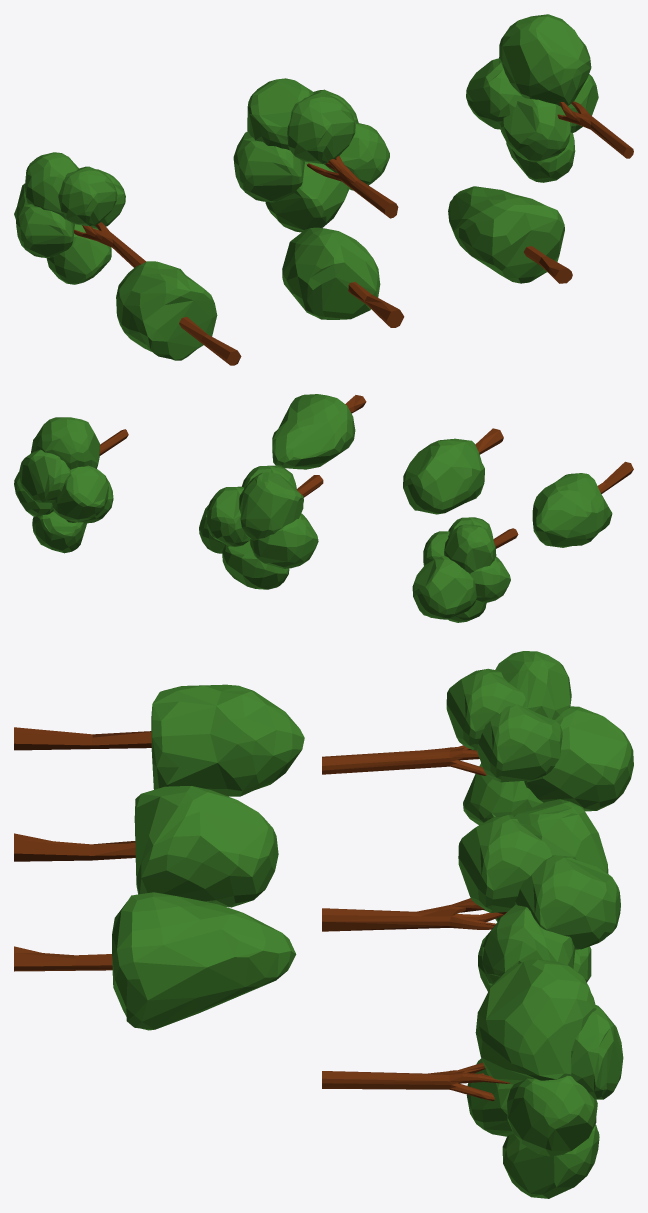
File: trees.FBX
3 views of the same model, one above another, from view 1: azimuth 30°, elevation 25°; view 2: azimuth 150°, elevation 25°; view 3: azimuth 270°, elevation 25° (orthographic). The views are drawn at different scales.
Visible parts, largest first — view 1: tree_five, tree_seven, tree_four, tree-three, tree-one, tree-two; view 2: tree_five, tree_seven, tree_four, tree-two, tree-three, tree-one; view 3: tree_seven, tree_five, tree_four, tree-three, tree-two, tree-one.
Boxes of the visible parts, x1,y1,x2,y2 form: tree_five: (233, 78, 398, 232); tree_seven: (466, 14, 633, 182); tree_four: (14, 152, 145, 284); tree-three: (448, 186, 572, 283); tree-one: (116, 261, 241, 365); tree-two: (282, 227, 404, 327); tree_five: (199, 465, 323, 589); tree_seven: (14, 417, 128, 553); tree_four: (412, 517, 518, 622); tree-two: (403, 428, 503, 514); tree-three: (272, 394, 366, 469); tree-one: (532, 461, 633, 547); tree_seven: (322, 959, 623, 1198); tree_five: (322, 799, 620, 991); tree_four: (322, 651, 633, 824); tree-three: (14, 892, 296, 1030); tree-two: (14, 786, 278, 907); tree-one: (14, 684, 304, 796).
Size of the model in its own units: 2360 by 621 by 1547.
